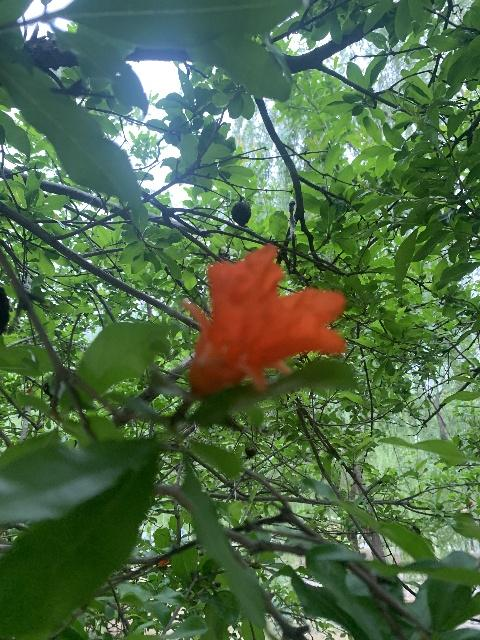flower: (184, 244, 348, 398)
